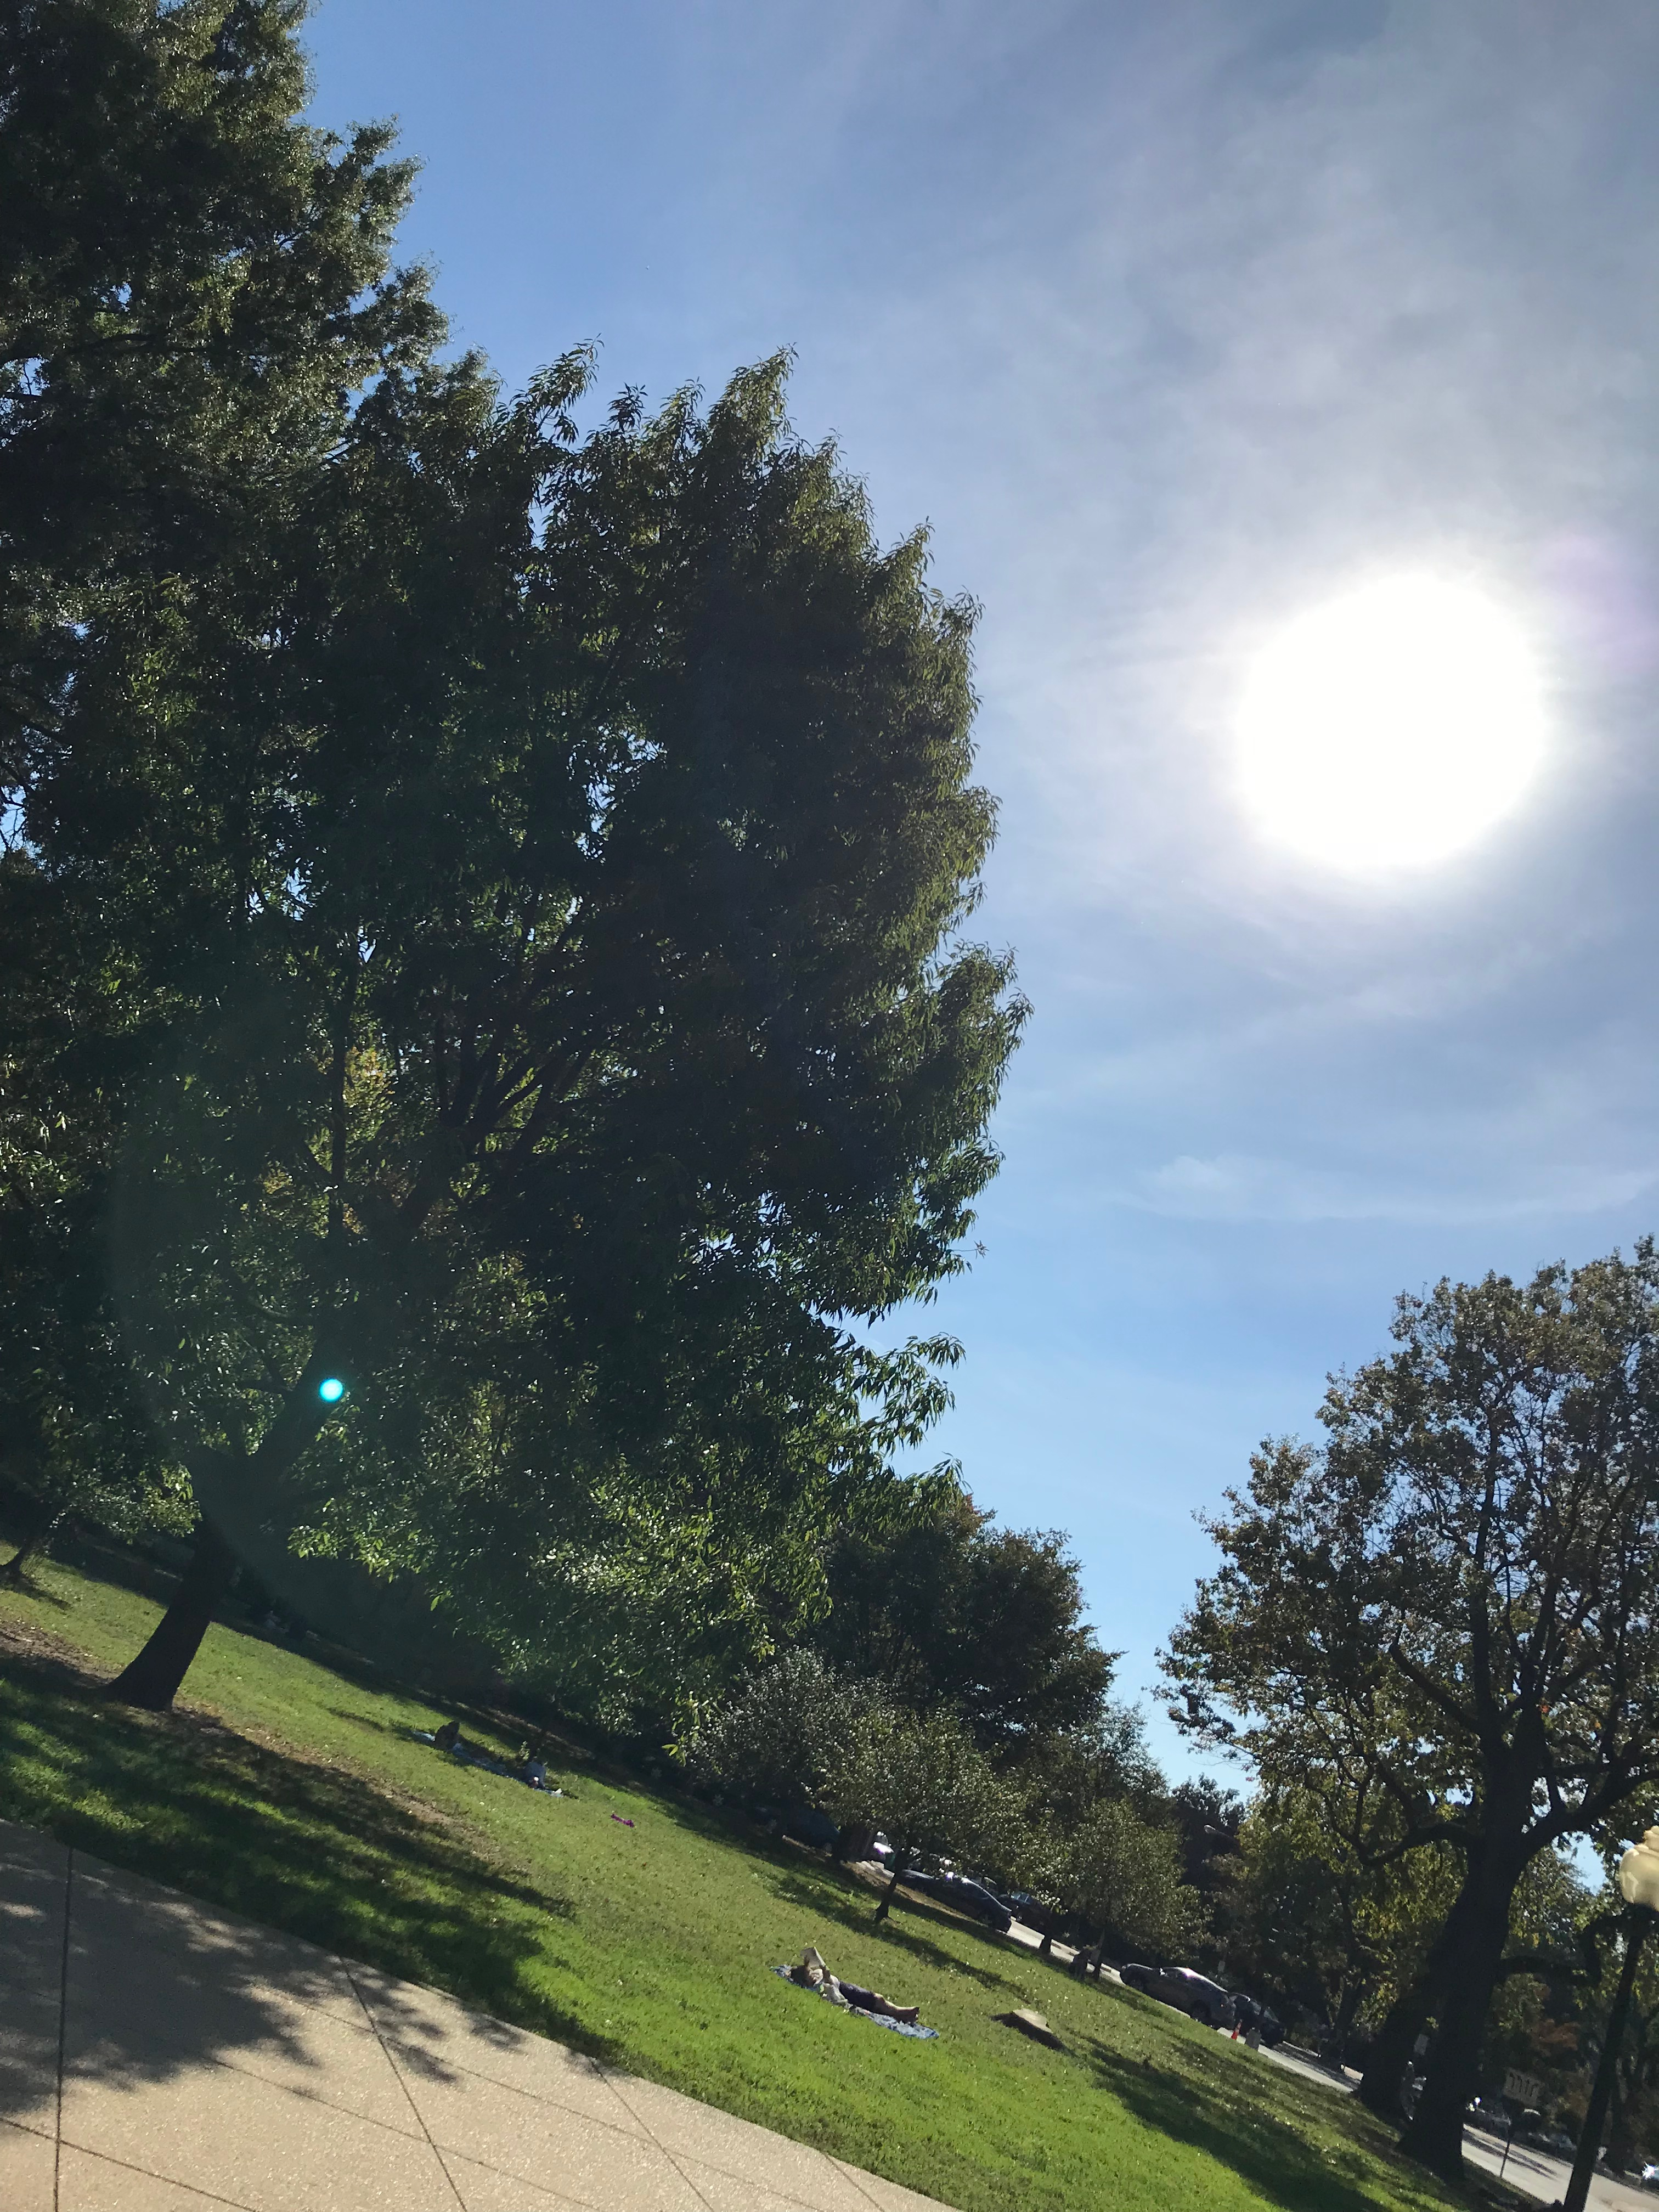flare: (317, 1376, 347, 1404)
